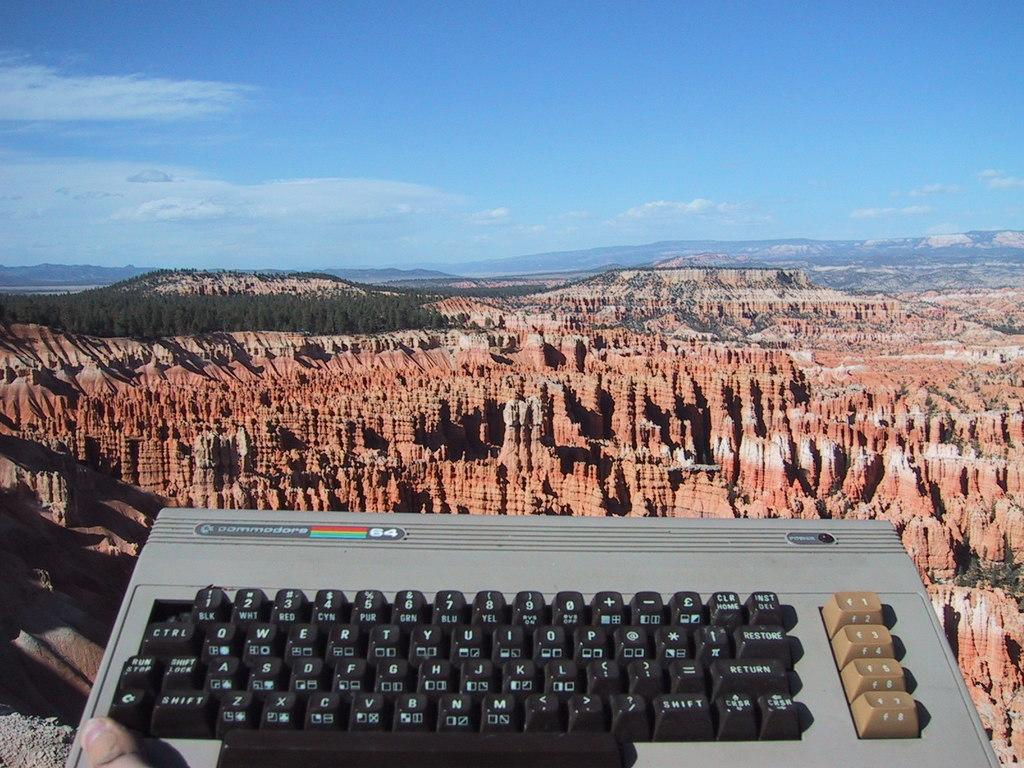Computer-keyboard: (63, 506, 1002, 767)
